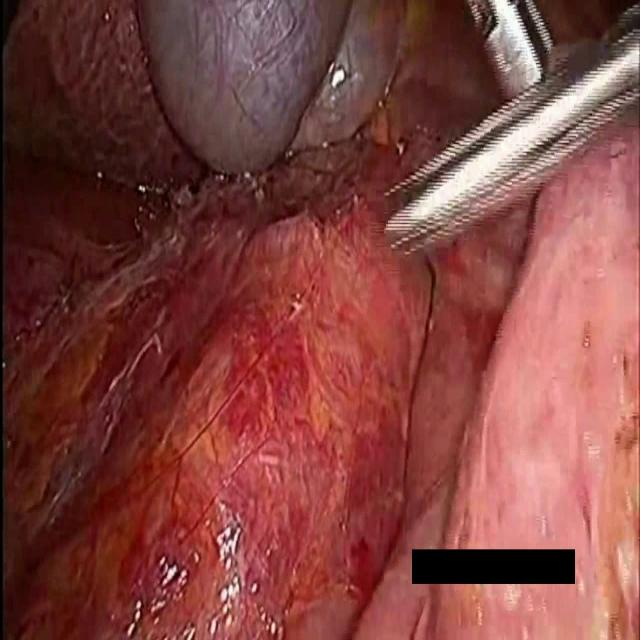surgical-area: (538, 0, 640, 42)
surgical-tool: (384, 0, 640, 264)
